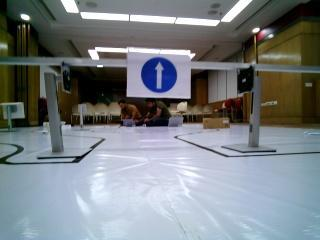straight: (127, 53, 191, 99)
